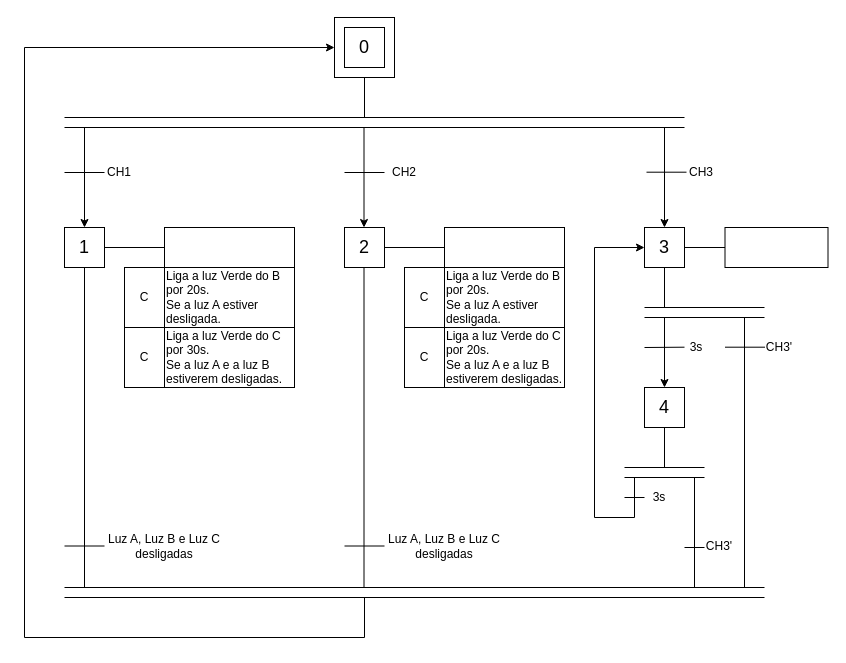
Some shapes in this 846 by 663 pixel diagram are drawn without their labels. The shapes that lost their labels are listed below. From the top down, each one's box as (x1, y1, x2, y2) in pixels, then its label:
(164, 226, 294, 268): Liga a luz Verde do A por 15s.
(444, 226, 564, 268): Liga a luz Verde do A por 20s.
(724, 226, 828, 268): Liga todas as luzes Amarelas.
